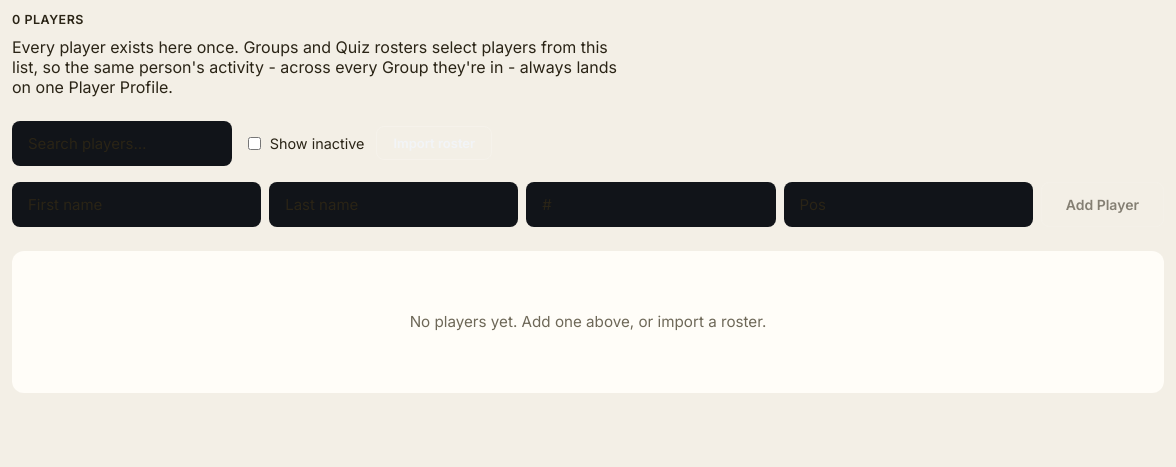
Test: adding a player › keeps the player and says what to do if their PIN could not be made
Type "Nia" into the field named "New player first name" at (137, 204), box [12,182,261,227]
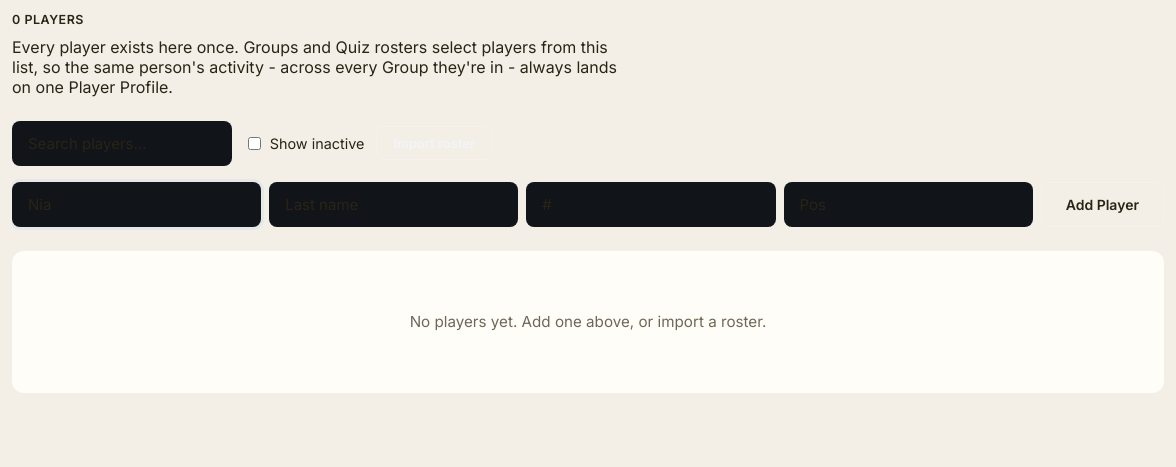
Click the button "Add Player" at (1102, 204), box [1041,182,1164,227]
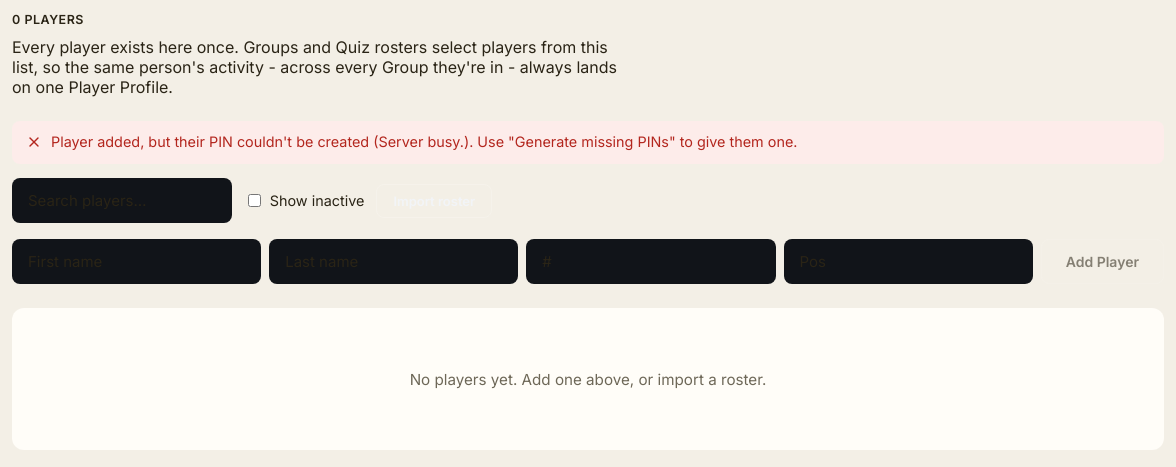
Result: the text "Player added, but their PIN couldn't be created" is shown at [51,133,797,150]
